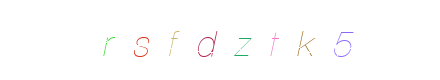5: (303, 0, 383, 80)
D: (179, 0, 259, 80)
F: (164, 0, 244, 80)
K: (256, 0, 336, 80)
R: (125, 0, 205, 80)
S: (141, 0, 221, 80)
T: (189, 0, 269, 80)
Z: (181, 0, 261, 80)
